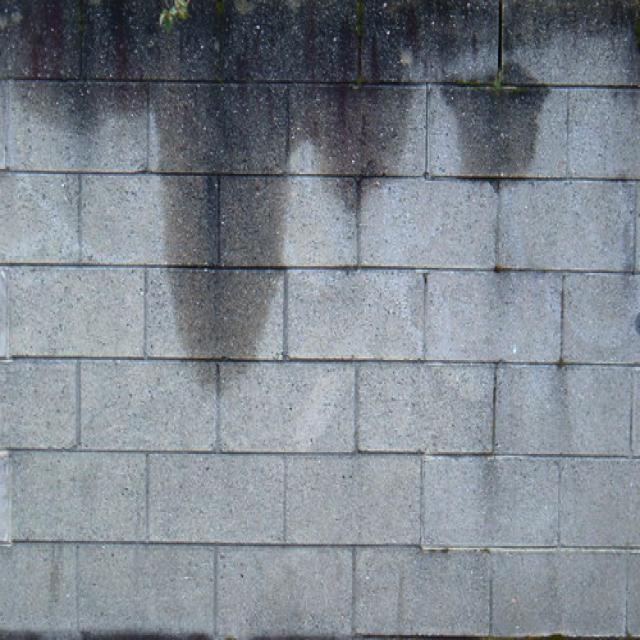Water_Leakage: (0, 0, 637, 425)
